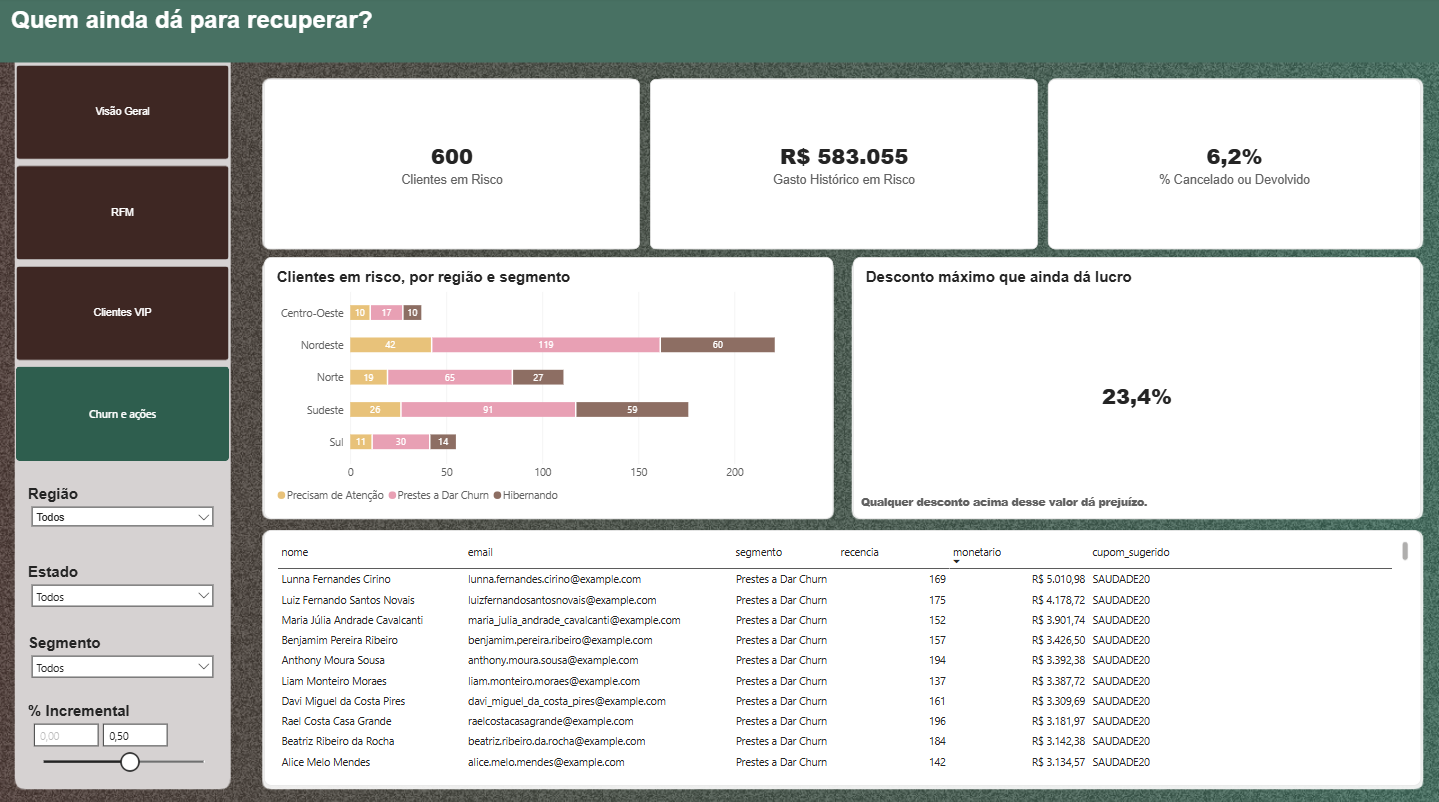

Layout of this report page (visuals, bound fields, positions):
{"tool":"powerbi","page":{"name":"Churn e ações","canvas":[1920,1080],"ordinal":3},"visuals":[{"type":"card","title":"Desconto máximo que ainda dá lucro","fields":{"Values":["Medidas.Desconto de Equilíbrio"]},"box":[1138.7,346.7,757.3,349.3],"z":0},{"type":"card","fields":{"Values":["Medidas.Clientes em Risco"]},"box":[353.3,109.3,501.3,226.7],"z":1000},{"type":"card","fields":{"Values":["Medidas.Gasto Histórico em Risco"]},"box":[868,109.3,517.3,226.7],"z":2000},{"type":"card","fields":{"Values":["Medidas.% Cancelado ou Devolvido"]},"box":[1398.7,109.3,497.3,226.7],"z":3000},{"type":"barChart","title":"Clientes em risco, por região e segmento","fields":{"Category":["dim_clientes.regiao"],"Series":["dim_clientes.segmento"],"Y":["Medidas.Clientes em Risco"]},"box":[353.3,346.7,758.7,349.3],"z":4000},{"type":"tableEx","fields":{"Values":["dim_clientes.nome","dim_clientes.email","dim_clientes.segmento","dim_clientes.recencia","dim_clientes.monetario","dim_clientes.cupom_sugerido"]},"box":[353.3,710.7,1542.7,341.3],"z":5000},{"type":"slicer","title":"Região","fields":{"Values":["dim_clientes.regiao"]},"box":[38.7,650.7,252,72],"z":6000},{"type":"slicer","title":"Estado","fields":{"Values":["dim_clientes.estado"]},"box":[38.7,754.7,252,73.3],"z":7000},{"type":"slicer","title":"Segmento","fields":{"Values":["dim_clientes.segmento"]},"box":[38.7,849.3,252,74.7],"z":8000},{"type":"textbox","box":[1149.3,664,661.3,22.7],"z":9000},{"type":"slicer","title":"% Incremental","fields":{"Values":["% Incremental.% Incremental"]},"box":[38.7,940,252,112],"z":10000},{"type":"pageNavigator","box":[22.7,90.7,284,530.7],"z":11000},{"type":"textbox","box":[16,12,1893.3,45.3],"z":11001}]}

Visuals, with their boxes in screenshot pixels (x1, y1, x2, y2), scaled from the page's 1920x1080 canvas onto the 1439x802 screenshot:
"Desconto máximo que ainda dá lucro" card: 853:257:1421:517
card - Medidas.Clientes em Risco: 265:81:641:250
card - Medidas.Gasto Histórico em Risco: 651:81:1038:250
card - Medidas.% Cancelado ou Devolvido: 1048:81:1421:250
"Clientes em risco, por região e segmento" barChart: 265:257:833:517
tableEx - dim_clientes.nome x dim_clientes.email: 265:528:1421:781
"Região" slicer: 29:483:218:537
"Estado" slicer: 29:560:218:615
"Segmento" slicer: 29:631:218:686
textbox: 861:493:1357:510
"% Incremental" slicer: 29:698:218:781
pageNavigator: 17:67:230:461
textbox: 12:9:1431:43
